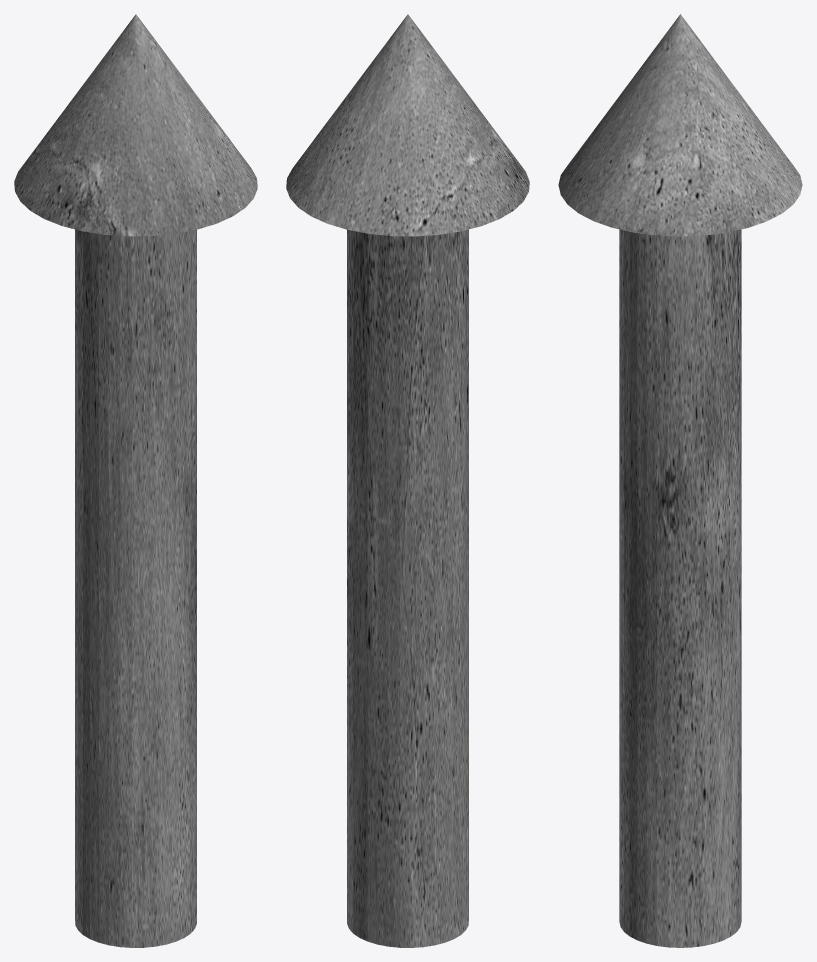
File: fleche.fbx
3 views of the same model, side by side, from view 1: azimuth 30°, elevation 25°; view 2: azimuth 150°, elevation 25°; view 3: azimuth 270°, elevation 25° (orthographic).
Parts seen in each view (by area): view 1: Fleche; view 2: Fleche; view 3: Fleche.
Boxes of the visible parts, x1,y1,x2,y2 form: Fleche: (14, 14, 257, 947); Fleche: (286, 14, 529, 947); Fleche: (558, 14, 802, 947).
Bounding box in the file's own units: 60 × 246 × 60.
1 material, 1 textured.
